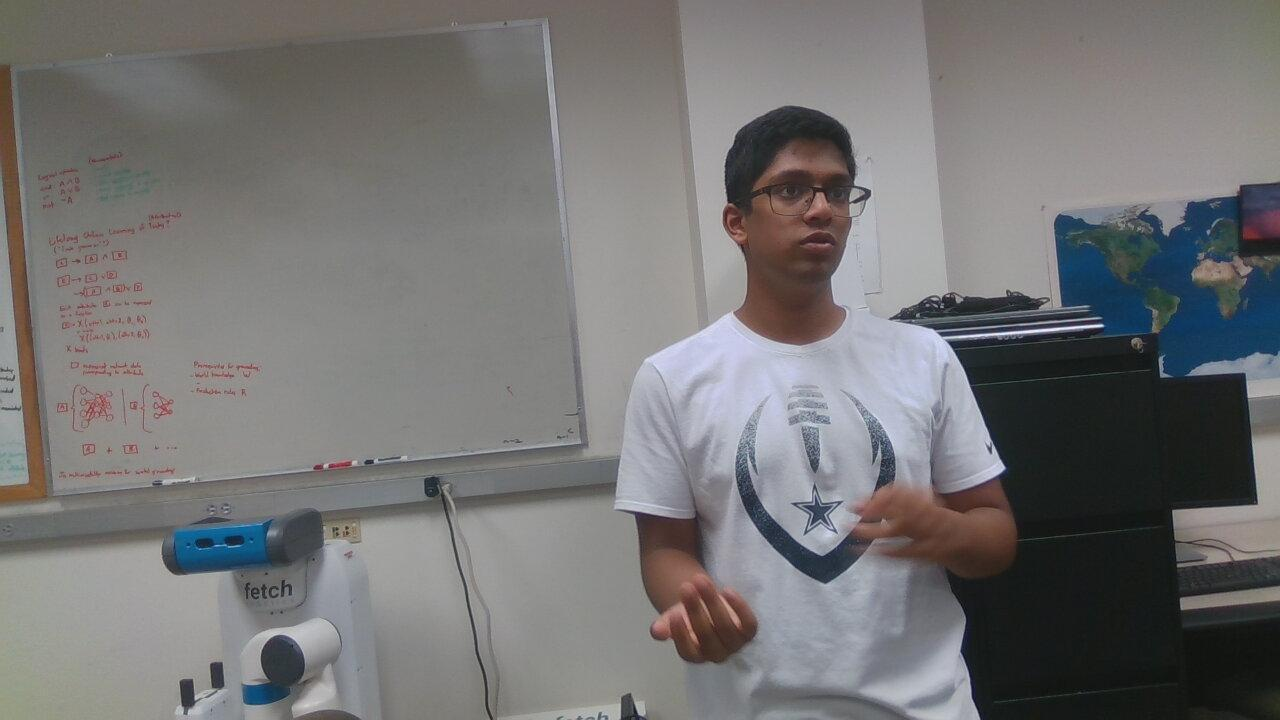hands: (618, 566, 778, 680)
